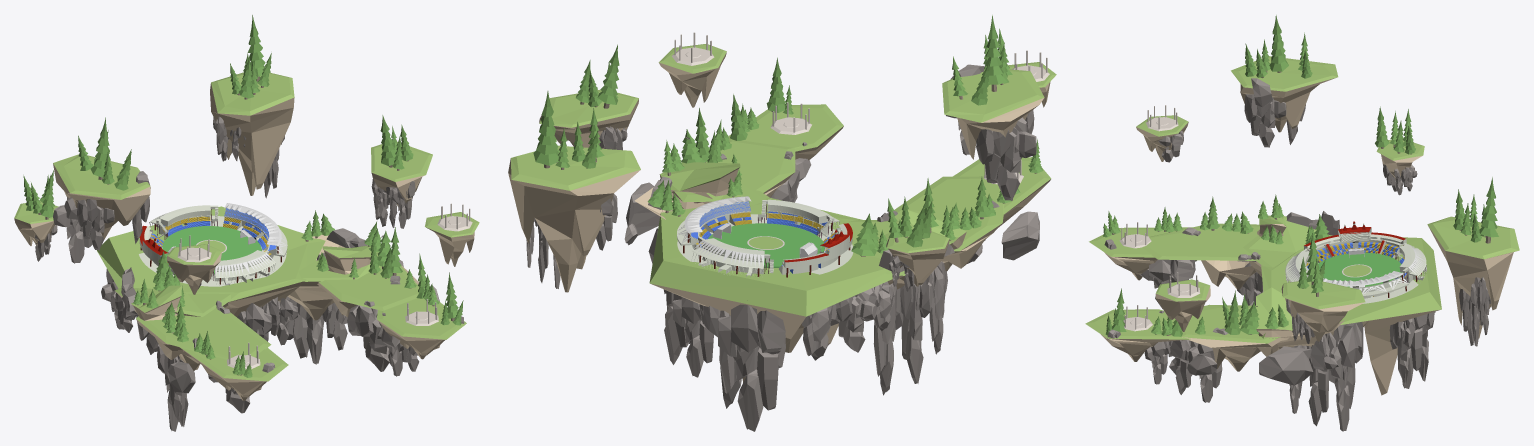
File: island7.gltf
3 views of the same model, side by side, from view 1: azimuth 30°, elevation 25°; view 2: azimuth 150°, elevation 25°; view 3: azimuth 270°, elevation 25° (orthographic). The views are drawn at different scales.
Visible parts, largest first — view 1: Fantasy Island - Project, Stand1, Cylinder.002; view 2: Fantasy Island - Project, Stand1, Cylinder.002; view 3: Fantasy Island - Project, Stand1, Cylinder.002.
Boxes of the visible parts, bbox=[...] form: Fantasy Island - Project: bbox=[14, 15, 479, 431]; Stand1: bbox=[139, 203, 287, 286]; Cylinder.002: bbox=[162, 226, 261, 273]; Fantasy Island - Project: bbox=[508, 15, 1056, 431]; Stand1: bbox=[677, 196, 853, 277]; Cylinder.002: bbox=[708, 223, 824, 267]; Fantasy Island - Project: bbox=[1085, 15, 1519, 431]; Stand1: bbox=[1285, 221, 1426, 303]; Cylinder.002: bbox=[1318, 252, 1401, 287].
Size of what is drawn, in the model's own units: 40.5 by 32.94 by 40.58.
